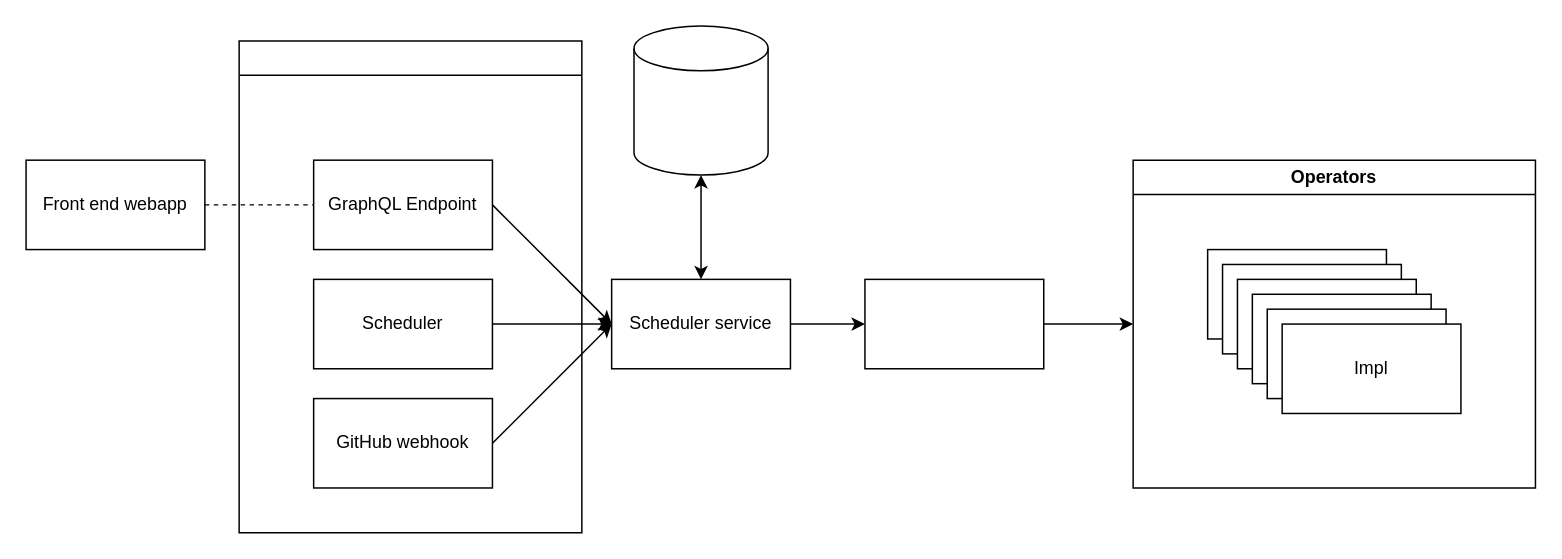
Image size: 1562x559. Some labels were removed from this diagram. The box of each missing label's shape, as (x1, y1, x2, y2) in pixels:
Channels: (238, 39, 582, 533)
Database: (633, 25, 768, 175)
Operator Adapter: (863, 278, 1044, 369)
